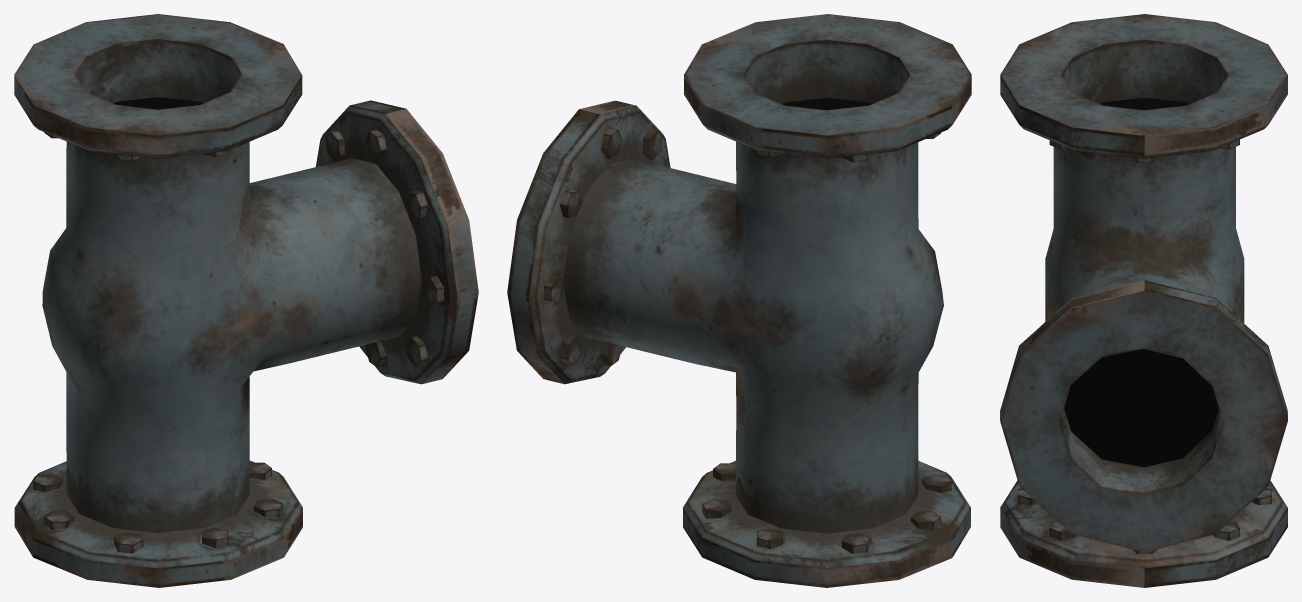
The model's file is pipe_pipe06.fbx.
The picture shows the model from 3 angles, left to right: view 1: azimuth 30°, elevation 25°; view 2: azimuth 150°, elevation 25°; view 3: azimuth 270°, elevation 25°; orthographic projection.
Visible parts, largest first — view 1: modular_industrial_pipes_01_group02__modular_industrial_pipe; view 2: modular_industrial_pipes_01_group02__modular_industrial_pipe; view 3: modular_industrial_pipes_01_group02__modular_industrial_pipe.
Boxes of the visible parts, box(x1,y1,x2,y2) form: modular_industrial_pipes_01_group02__modular_industrial_pipe: box(14, 14, 478, 587); modular_industrial_pipes_01_group02__modular_industrial_pipe: box(507, 14, 971, 587); modular_industrial_pipes_01_group02__modular_industrial_pipe: box(1000, 14, 1287, 587).
Size of the model in its own units: 0.3087 by 0.3576 by 0.2064.
